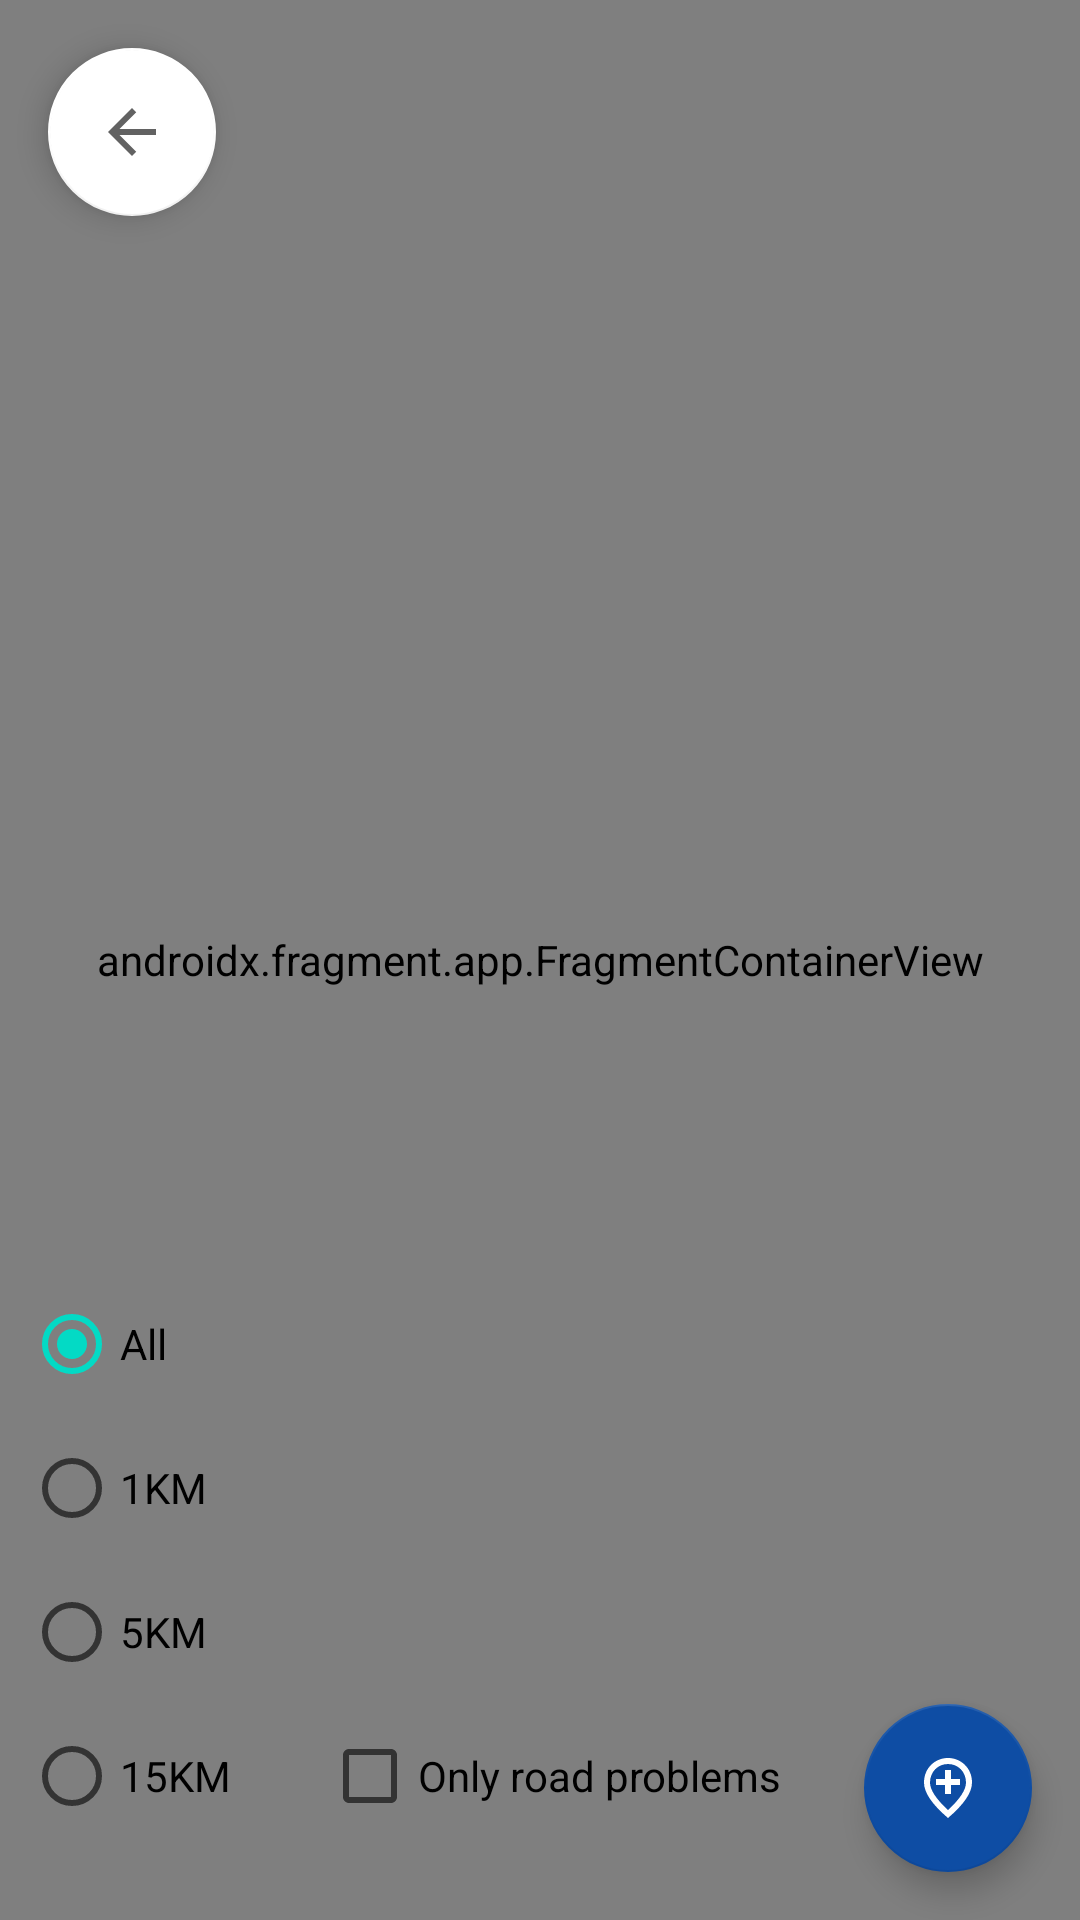

Where icons sit on this 1080px x 1920px app screen, as {"left": x1, "top": y1, "right": x2, "bottom": y2}:
add location: {"left": 864, "top": 1704, "right": 1032, "bottom": 1872}
arrow back: {"left": 48, "top": 48, "right": 216, "bottom": 216}
